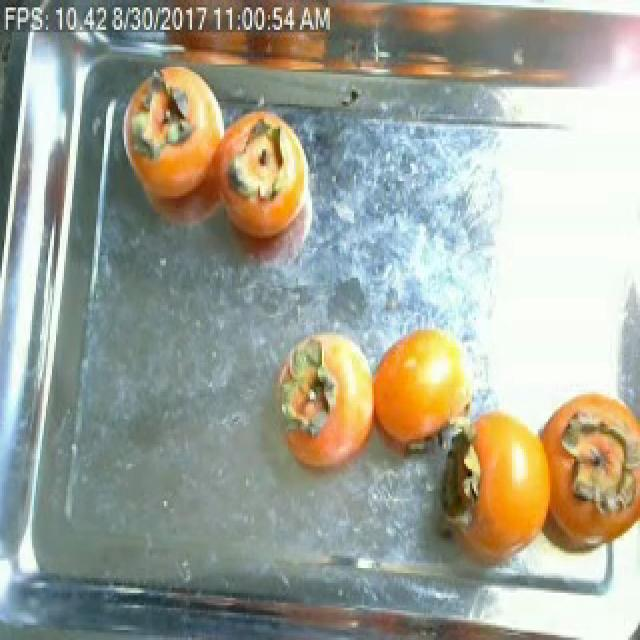Fruit: (362, 312, 484, 459), (218, 99, 320, 228)
